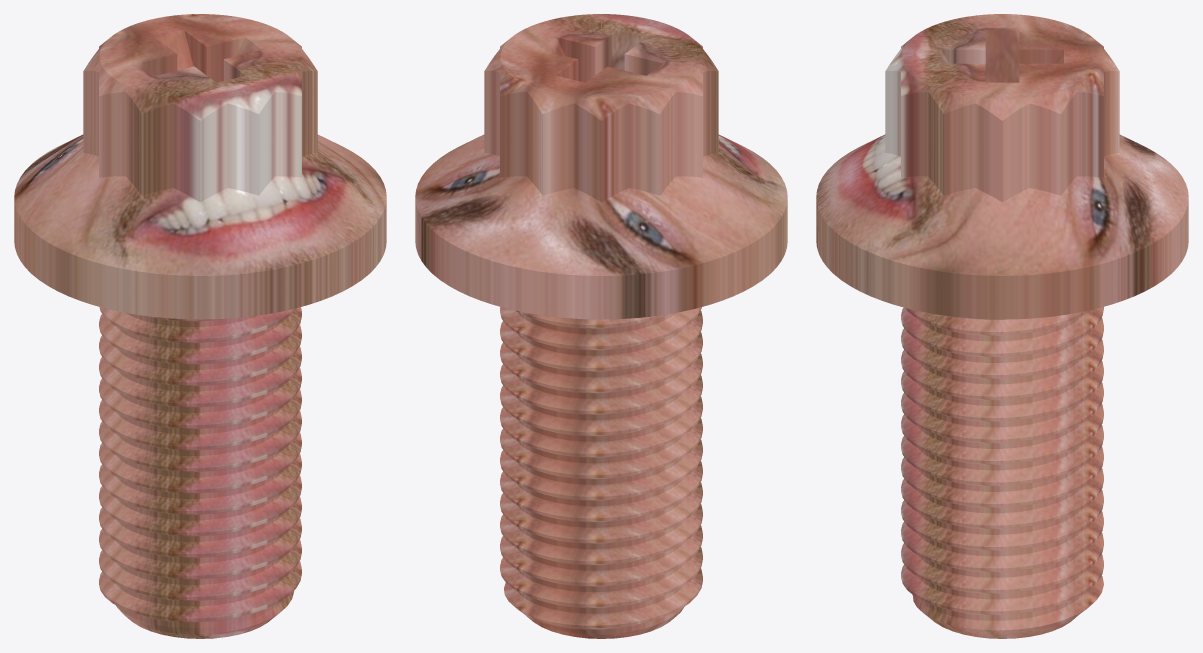
The model's file is kroeger-12-point-phillips-bolt.glb.
3 renders of one model, left to right at view 1: azimuth 30°, elevation 25°; view 2: azimuth 150°, elevation 25°; view 3: azimuth 270°, elevation 25°, orthographic.
Visible parts, largest first — view 1: Bolt.013; view 2: Bolt.013; view 3: Bolt.013.
Part boxes in pixels (box(x1,y1,x2,y2)): Bolt.013: box(14, 14, 386, 638); Bolt.013: box(415, 14, 787, 638); Bolt.013: box(816, 14, 1188, 638).
Size of the model in its own units: 0.011 by 0.0179 by 0.011.
1 material, 1 textured.
